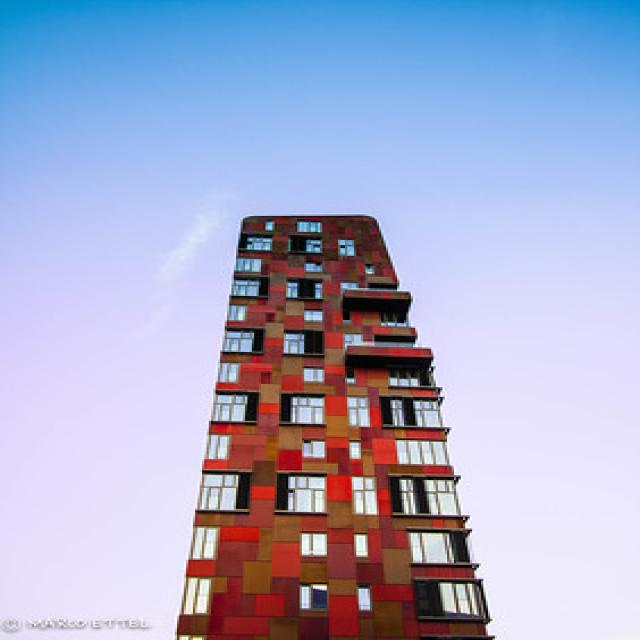building: (169, 208, 503, 640)
